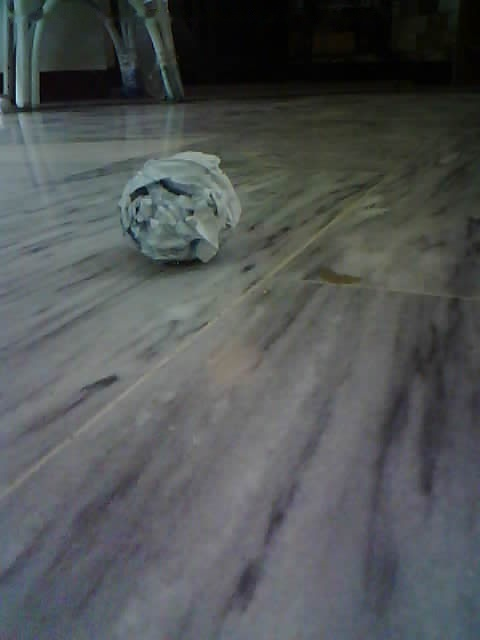paper: (116, 152, 240, 268)
